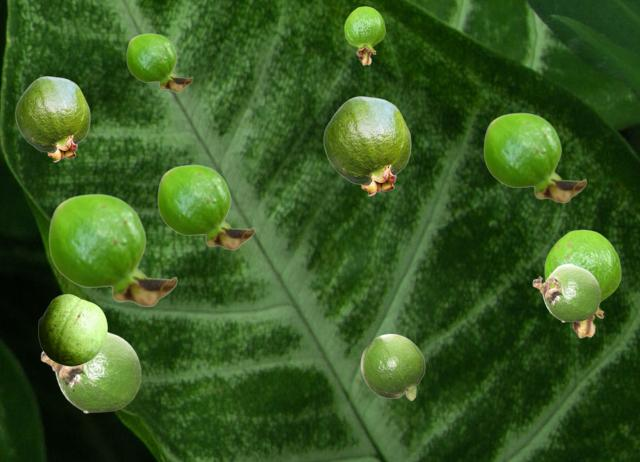guava: (48, 193, 177, 306), (483, 112, 586, 202), (323, 96, 410, 195), (157, 164, 254, 249), (544, 229, 620, 337), (40, 331, 141, 412), (15, 76, 89, 161), (38, 294, 106, 365), (360, 333, 424, 400), (532, 263, 600, 321), (126, 33, 192, 91), (344, 6, 384, 64)
